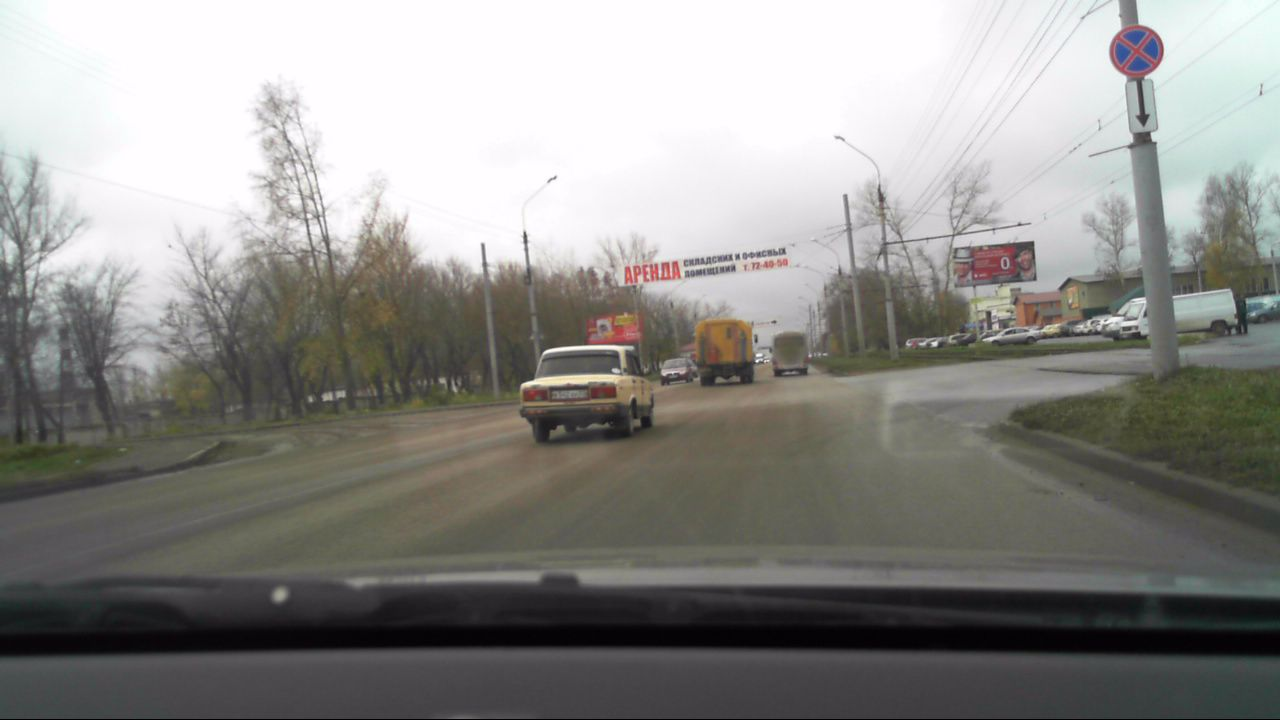No Parking: (1108, 23, 1166, 79)
